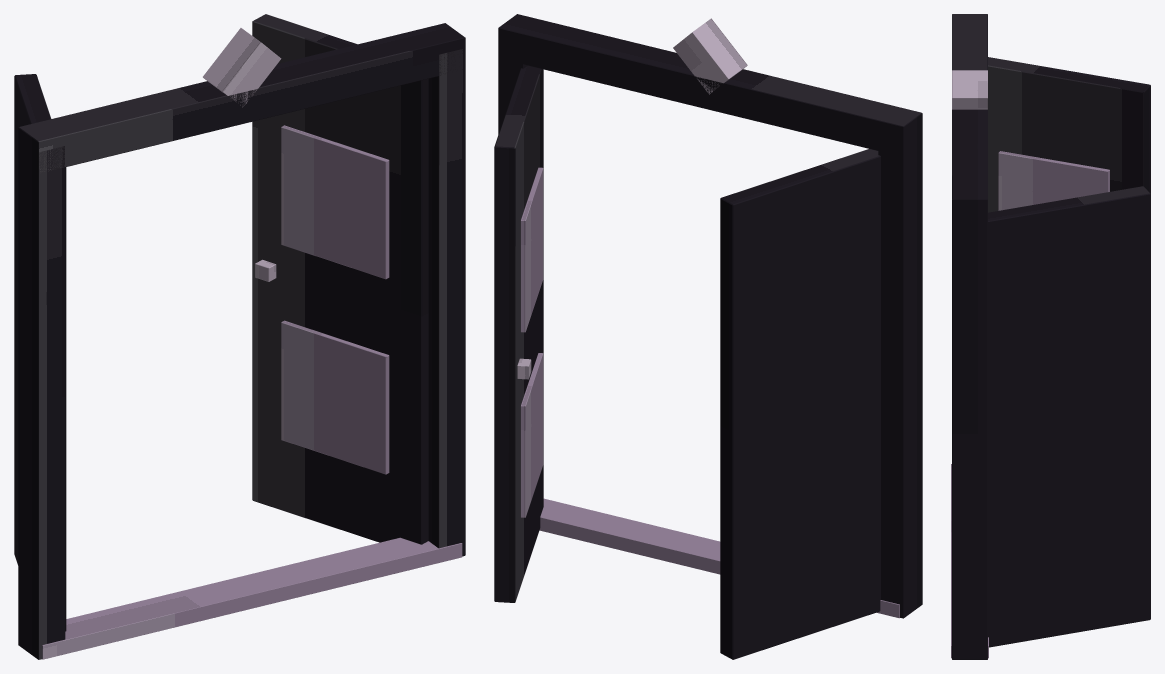
Rendered from gothic_double_room_door.glb.
3 renders of one model, left to right at view 1: azimuth 30°, elevation 25°; view 2: azimuth 150°, elevation 25°; view 3: azimuth 270°, elevation 25°, orthographic. The views are drawn at different scales.
Parts seen in each view (by area): view 1: OpenDoorLeafRight, DoorFrameL, DoorFrameTop, DoorFrameR, Threshold, DoorPanelRight_1, DoorPanelRight_2, OpenDoorLeafLeft, DoorSpire; view 2: OpenDoorLeafLeft, DoorFrameL, DoorFrameTop, OpenDoorLeafRight, Threshold, DoorPanelRight_2, DoorPanelRight_1, DoorSpire, DoorFrameR; view 3: OpenDoorLeafRight, OpenDoorLeafLeft, DoorFrameR, DoorFrameTop, DoorPanelLeft_2, DoorSpire.
Boxes of the visible parts, x1,y1,x2,y2 form: OpenDoorLeafRight: [252, 14, 428, 544]; DoorFrameL: [18, 139, 65, 659]; DoorFrameTop: [18, 23, 465, 173]; DoorFrameR: [428, 48, 465, 556]; Threshold: [42, 537, 462, 659]; DoorPanelRight_1: [281, 320, 389, 474]; DoorPanelRight_2: [281, 125, 389, 279]; OpenDoorLeafLeft: [14, 74, 66, 631]; DoorSpire: [203, 28, 281, 107]; OpenDoorLeafLeft: [720, 149, 880, 659]; DoorFrameL: [878, 131, 922, 618]; DoorFrameTop: [498, 14, 922, 155]; OpenDoorLeafRight: [494, 65, 543, 602]; Threshold: [539, 498, 899, 618]; DoorPanelRight_2: [520, 167, 543, 332]; DoorPanelRight_1: [520, 353, 543, 517]; DoorSpire: [673, 18, 747, 94]; DoorFrameR: [498, 38, 527, 134]; OpenDoorLeafRight: [988, 186, 1150, 647]; OpenDoorLeafLeft: [988, 57, 1150, 212]; DoorFrameR: [952, 199, 987, 659]; DoorFrameTop: [952, 14, 987, 227]; DoorPanelLeft_2: [998, 151, 1109, 210]; DoorSpire: [952, 70, 987, 109].
Bounding box in the file's own units: 2.2 × 2.77 × 1.
Materials: 1 (1 with a texture image).
